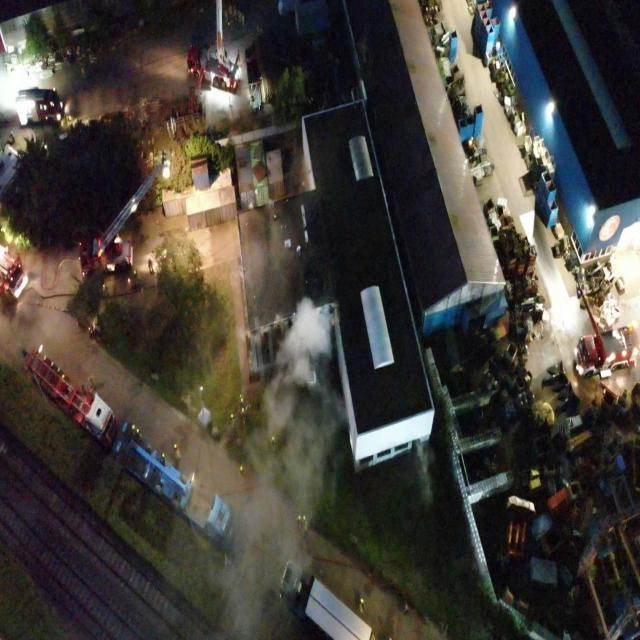Smoke: (208, 296, 350, 640), (286, 146, 312, 194), (414, 438, 432, 502)
